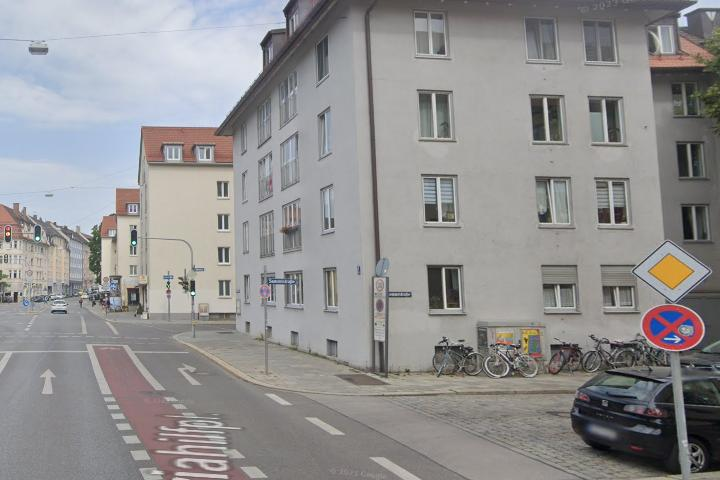traffic_sign: (630, 238, 712, 304), (640, 304, 706, 352)
vehicle: (568, 359, 720, 480), (49, 299, 70, 313)
